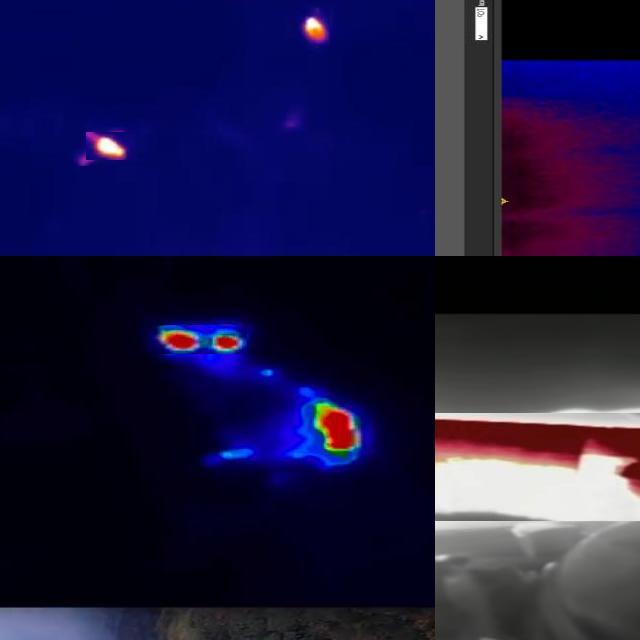fire: (436, 413, 640, 521), (310, 399, 365, 455), (153, 325, 248, 354), (87, 132, 131, 160), (301, 8, 331, 46)
